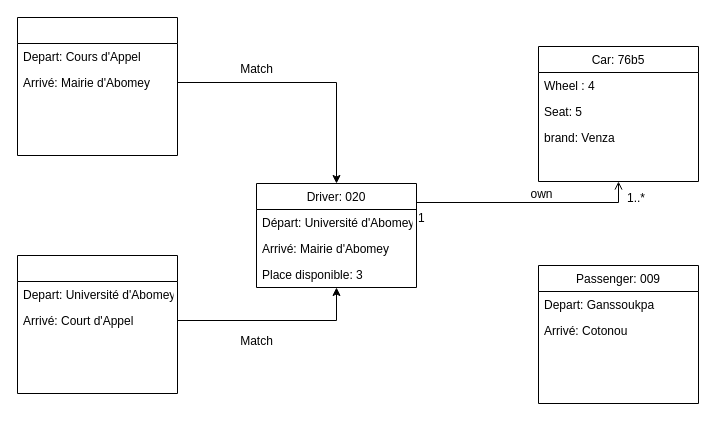
This 716x421 diagram has some shape labels left out. The box of each missing label's shape, as (x1, y1, x2, y2) in pixels:
Passenger: 003: (16, 16, 178, 156)
Passenger: 008: (16, 254, 178, 394)
